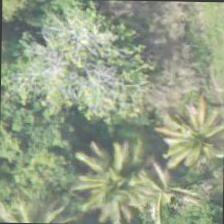Kelapa_Sawit: (69, 138, 162, 223), (113, 139, 206, 223), (150, 91, 224, 183)
